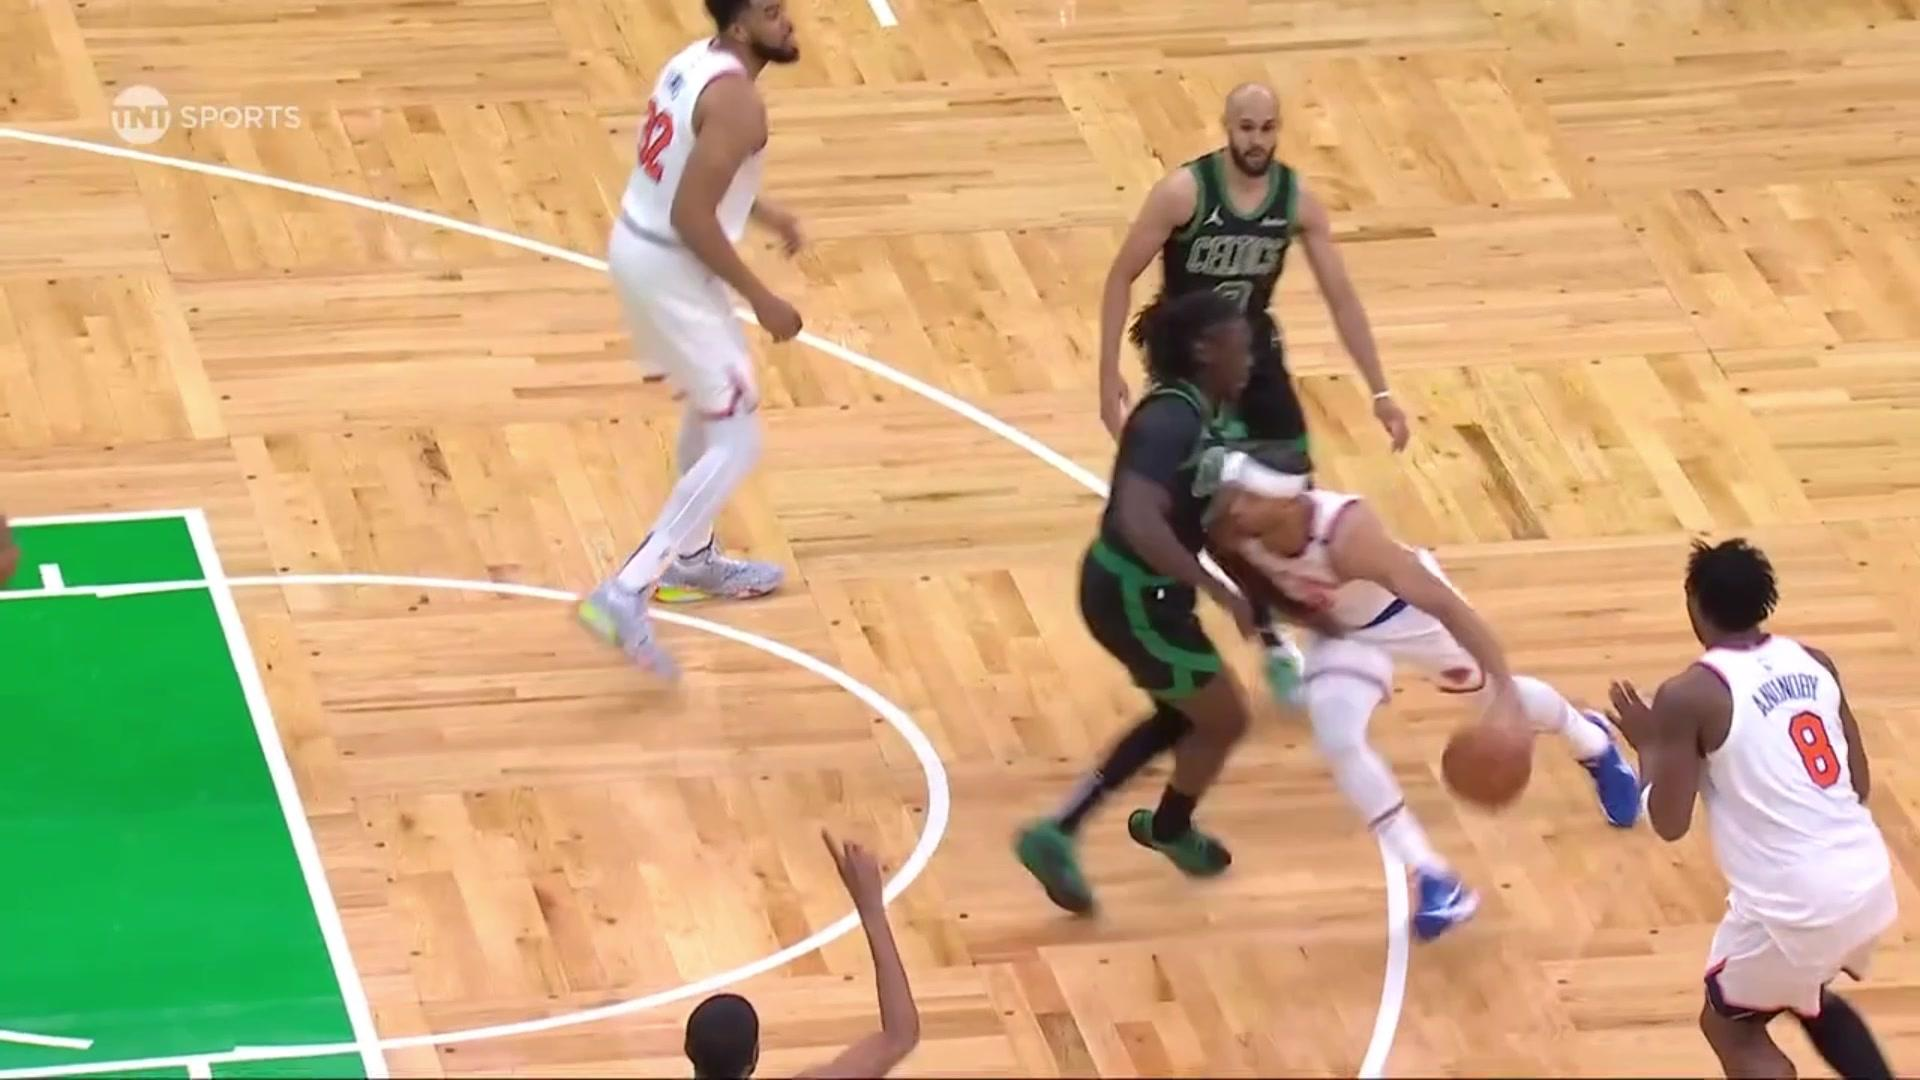foul: (998, 299, 1665, 960)
